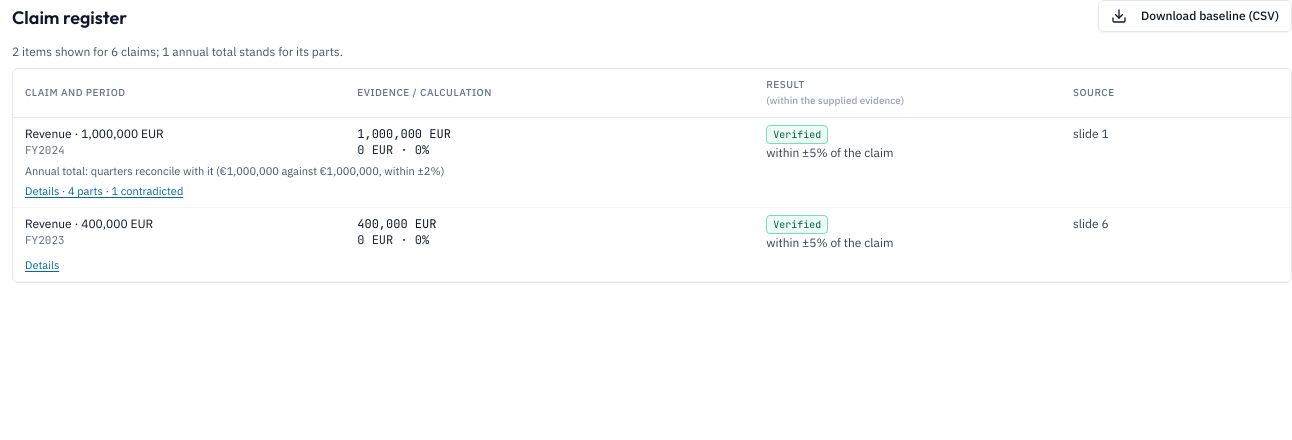
Test: Details opens the parts, each with its own period, label and reason; a contradicted part is not hidden
The image size is (1292, 440).
Later steps or results of the test are not shown.
Click the button "Details · 4 parts · 1 contradicted" at (104, 191), box [25,183,183,199]
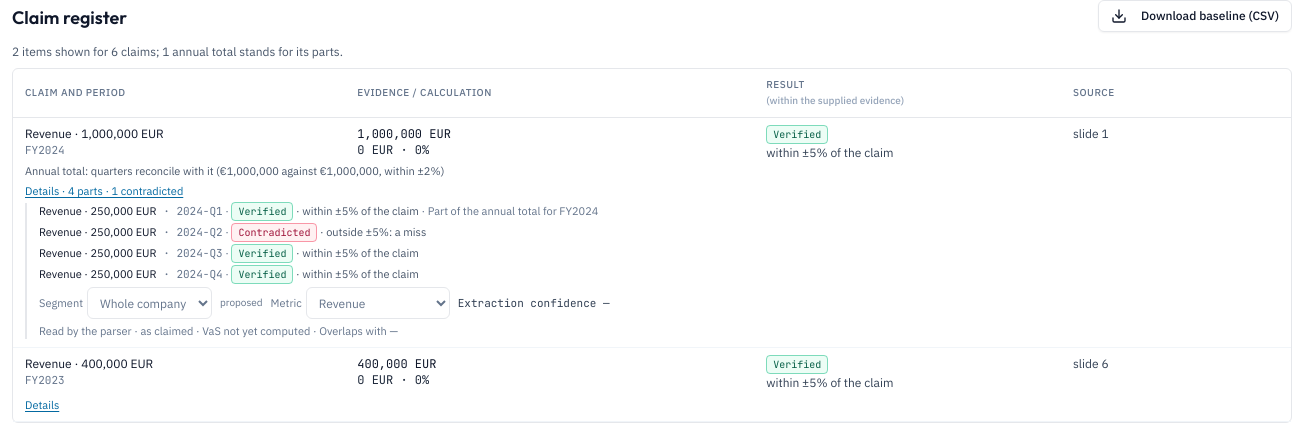
expect the list item with test id "register-group-part" shows "Contradicted": met, box [238,226,310,239]
expect the list item with test id "register-group-part" shows "outside ±5%: a miss": met, box [326,225,426,239]
